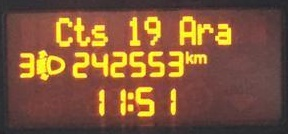1: (124, 14, 142, 48), (94, 85, 107, 117), (166, 84, 178, 117), (116, 86, 126, 117)
2: (69, 48, 89, 79), (109, 49, 126, 78)
3: (165, 48, 184, 77), (17, 49, 35, 79)
4: (89, 50, 107, 77)
5: (134, 84, 156, 117), (128, 49, 146, 78), (147, 49, 164, 77)
9: (143, 13, 162, 47)
X: (175, 13, 196, 47), (52, 14, 73, 48), (73, 15, 90, 47), (90, 22, 108, 47), (196, 20, 213, 46), (214, 21, 231, 47), (193, 51, 208, 64), (126, 90, 134, 113), (185, 47, 192, 64)
